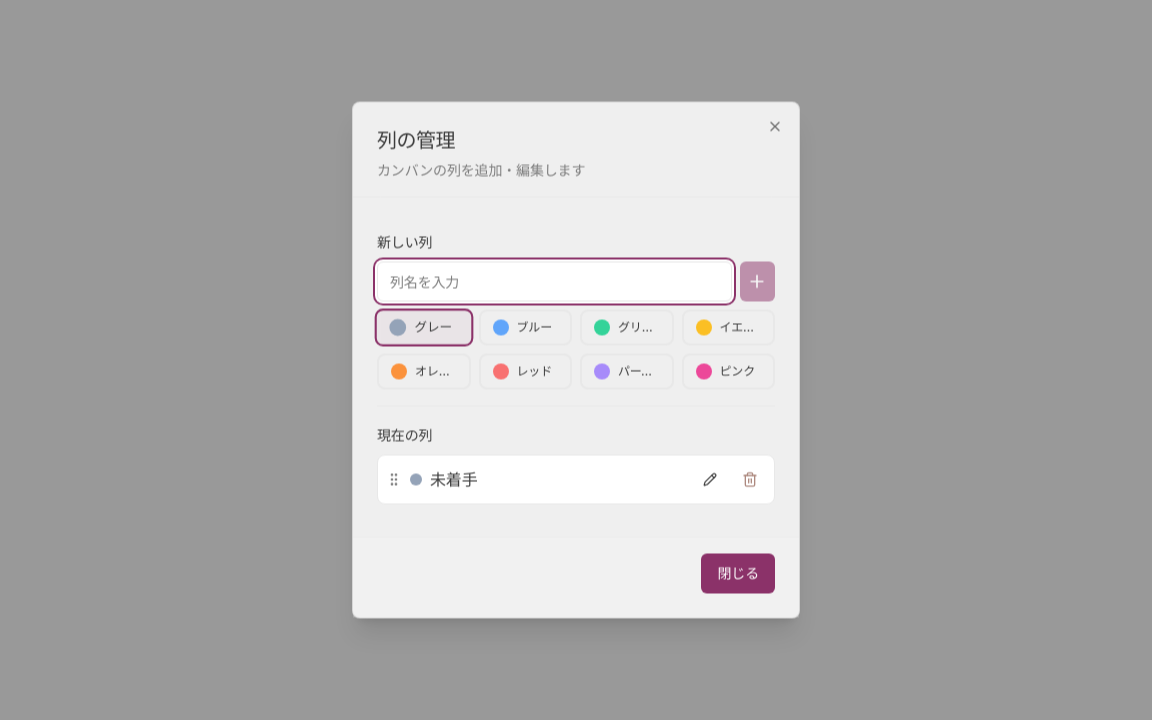
Test case: ColumnManager › 列の削除 › 最後の列は削除できない
Click the button with test id "delete-column-todo". click: (750, 480)
box: left=734, top=464, right=766, bottom=496
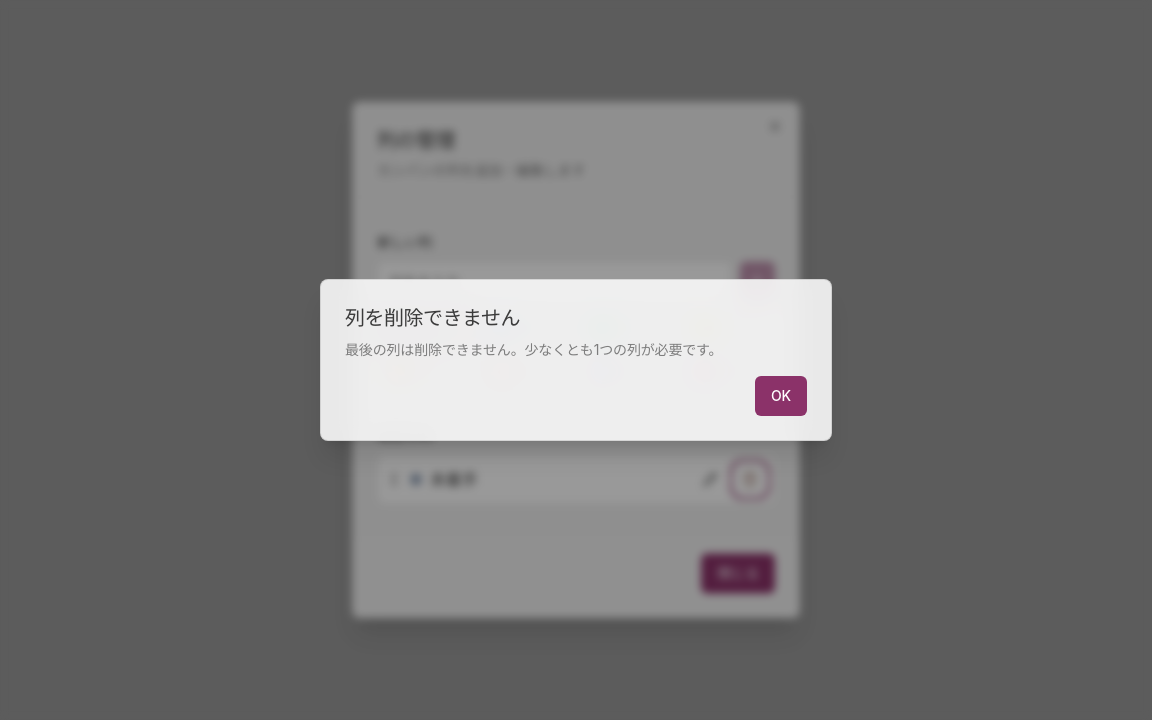
Expected: the heading "列を削除できません" is shown, left=345, top=306, right=520, bottom=330
Expected: the text "最後の列は削除できません。少なくとも1つの列が必要です。" is shown, left=345, top=341, right=722, bottom=358
